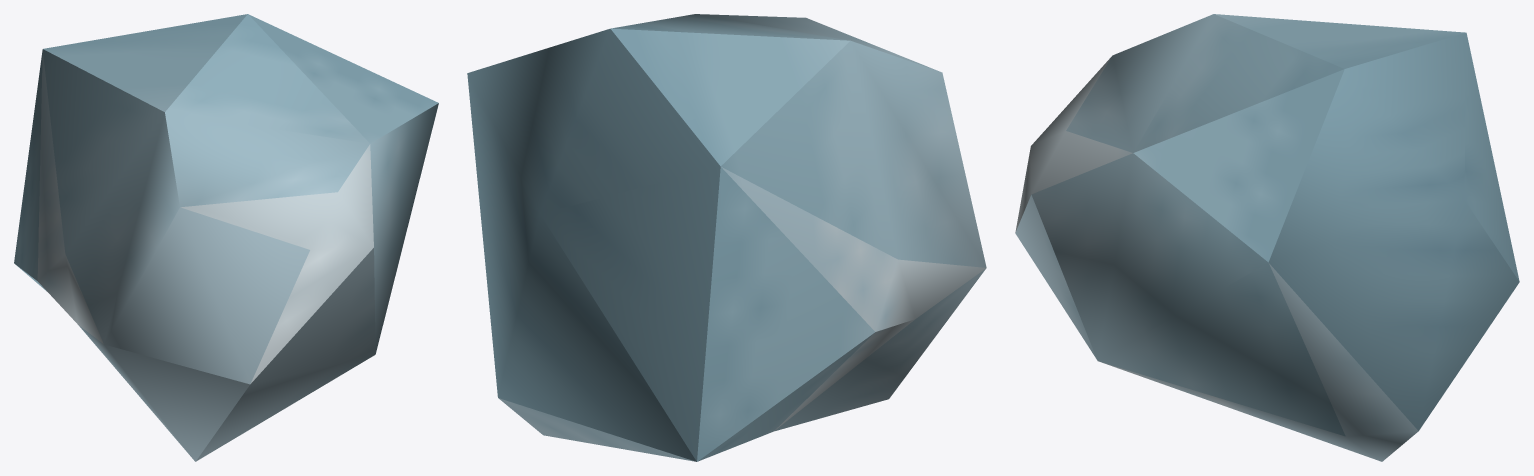
File: silver-nugget-small.glb
3 views of the same model, side by side, from view 1: azimuth 30°, elevation 25°; view 2: azimuth 150°, elevation 25°; view 3: azimuth 270°, elevation 25° (orthographic). The views are drawn at different scales.
Visible parts, largest first — view 1: Silver_Nugget_Small; view 2: Silver_Nugget_Small; view 3: Silver_Nugget_Small.
Part boxes in pixels (bbox=[...]): Silver_Nugget_Small: bbox=[14, 14, 438, 461]; Silver_Nugget_Small: bbox=[467, 14, 986, 461]; Silver_Nugget_Small: bbox=[1015, 14, 1519, 461].
Size of the model in its own units: 0.1411 by 0.1204 by 0.1461.
Materials: 1 (1 with a texture image).
